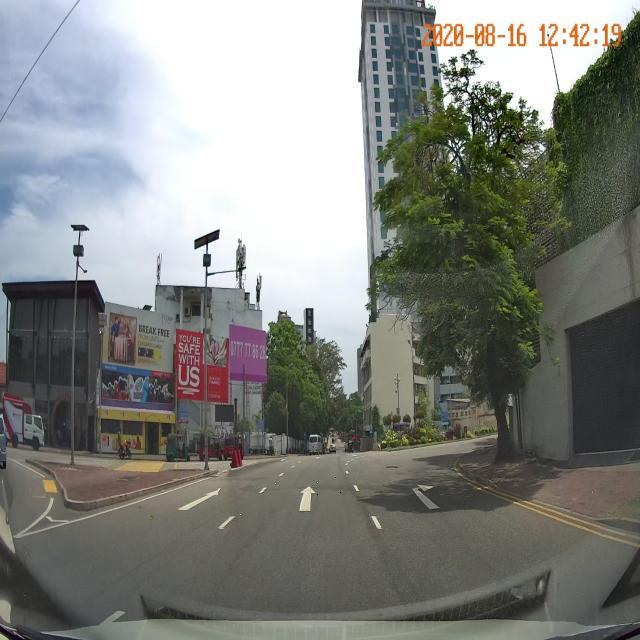forward: (219, 471, 385, 528)
